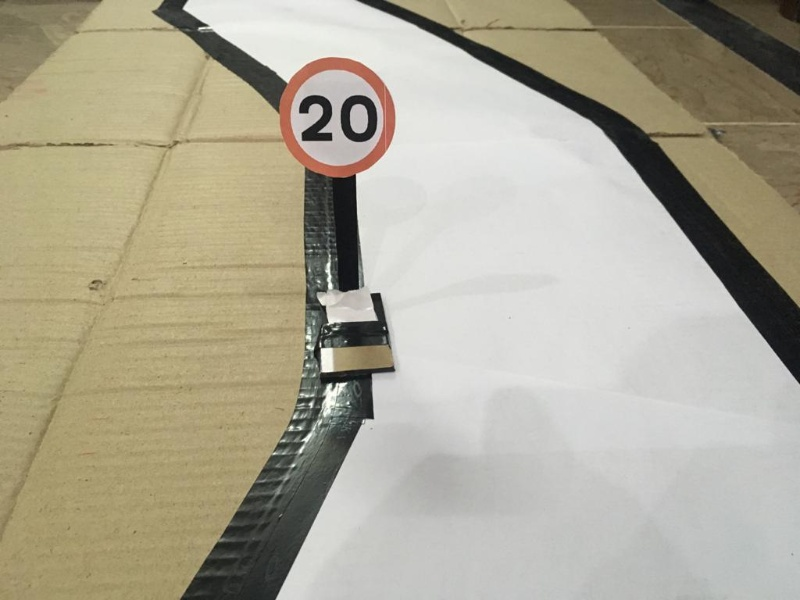Speed Limit 20: (275, 52, 391, 179)
